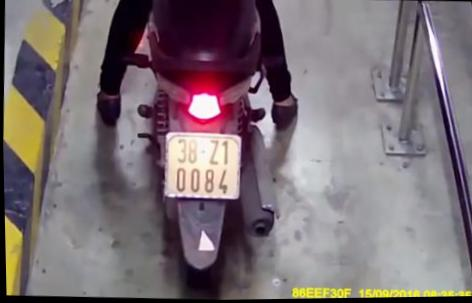LP: (161, 130, 244, 203)
